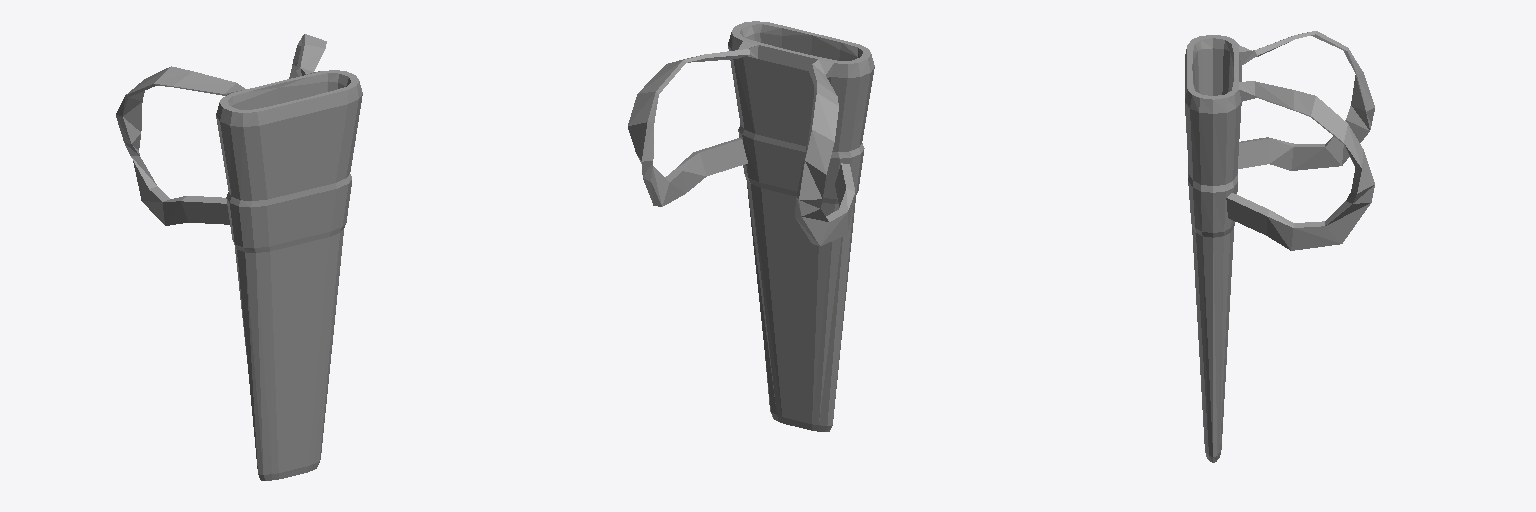
The model's file is Quiver.obj.
3 views of the same model, side by side, from view 1: azimuth 30°, elevation 25°; view 2: azimuth 150°, elevation 25°; view 3: azimuth 270°, elevation 25° (orthographic).
Visible parts, largest first — view 1: Cube; view 2: Cube; view 3: Cube.
Boxes of the visible parts, x1=… form: Cube: x1=116, y1=34, x2=362, y2=480; Cube: x1=628, y1=21, x2=874, y2=431; Cube: x1=1185, y1=31, x2=1374, y2=462.
Size of the model in its own units: 0.3394 by 0.6298 by 0.2817.